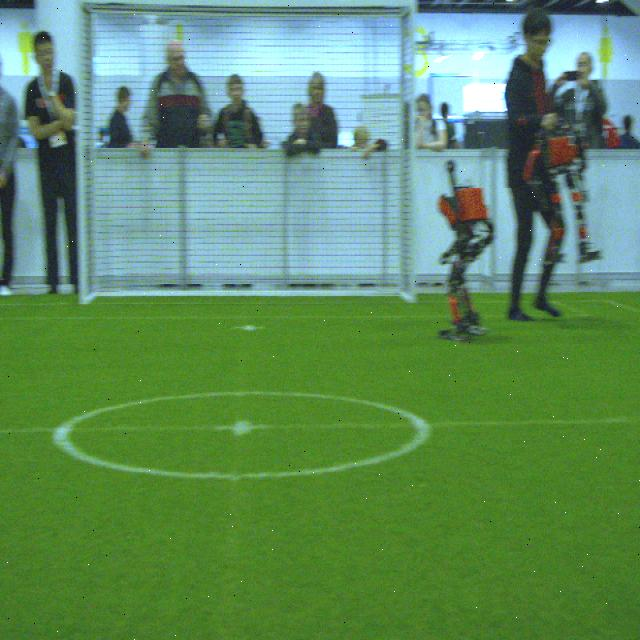goalpost: (74, 4, 87, 308), (407, 5, 416, 303)
